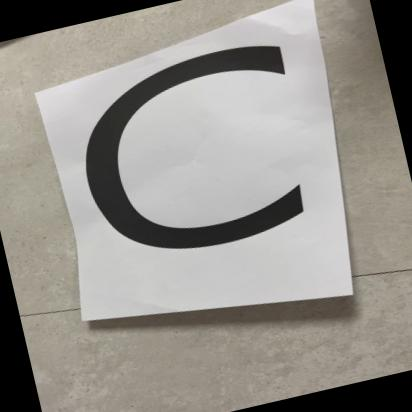seat: (47, 34, 344, 330)
